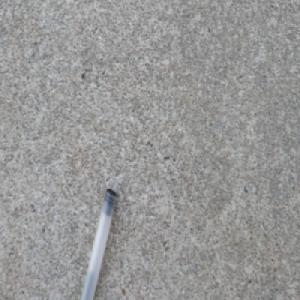Pen: (77, 185, 118, 299)
